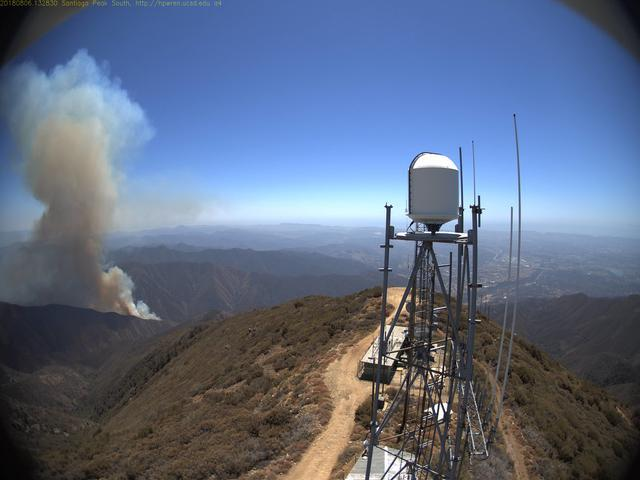smoke: (1, 48, 168, 326)
